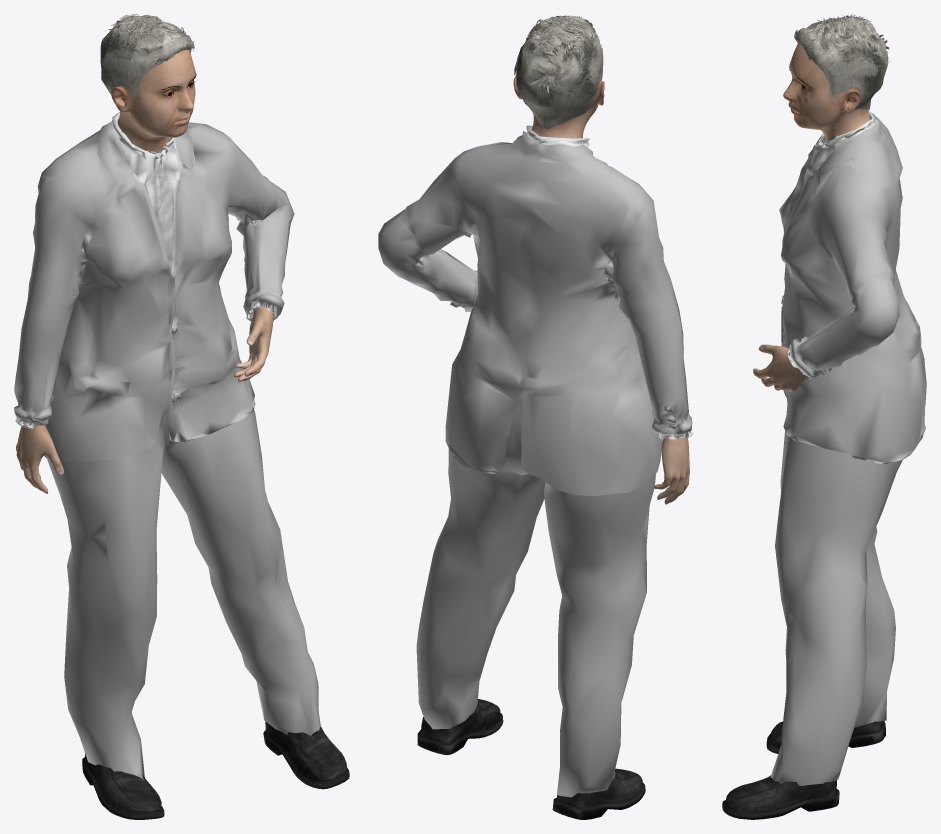
The model's file is woman-tailored.glb.
The picture shows the model from 3 angles, left to right: view 1: azimuth 30°, elevation 25°; view 2: azimuth 150°, elevation 25°; view 3: azimuth 270°, elevation 25°; orthographic projection. The views are drawn at different scales.
Visible parts, largest first — view 1: male_elegantsuit01, Harper | anatomical body, shoes04, short01; view 2: male_elegantsuit01, short01, shoes04, Harper | anatomical body; view 3: male_elegantsuit01, Harper | anatomical body, short01, shoes04.
Boxes of the visible parts, <box> form: male_elegantsuit01: <box>14,112,320,779</box>; Harper | anatomical body: <box>16,50,273,493</box>; shoes04: <box>82,721,349,819</box>; short01: <box>100,14,194,98</box>; male_elegantsuit01: <box>378,125,693,797</box>; short01: <box>514,15,603,128</box>; shoes04: <box>417,699,645,819</box>; Harper | anatomical body: <box>513,75,689,504</box>; male_elegantsuit01: <box>770,110,926,785</box>; Harper | anatomical body: <box>753,44,870,391</box>; short01: <box>794,14,890,109</box>; shoes04: <box>722,721,885,819</box>.
Bounding box in the file's own units: 1.09 × 2.8 × 0.6988.
Materials: 8 (8 with a texture image).
